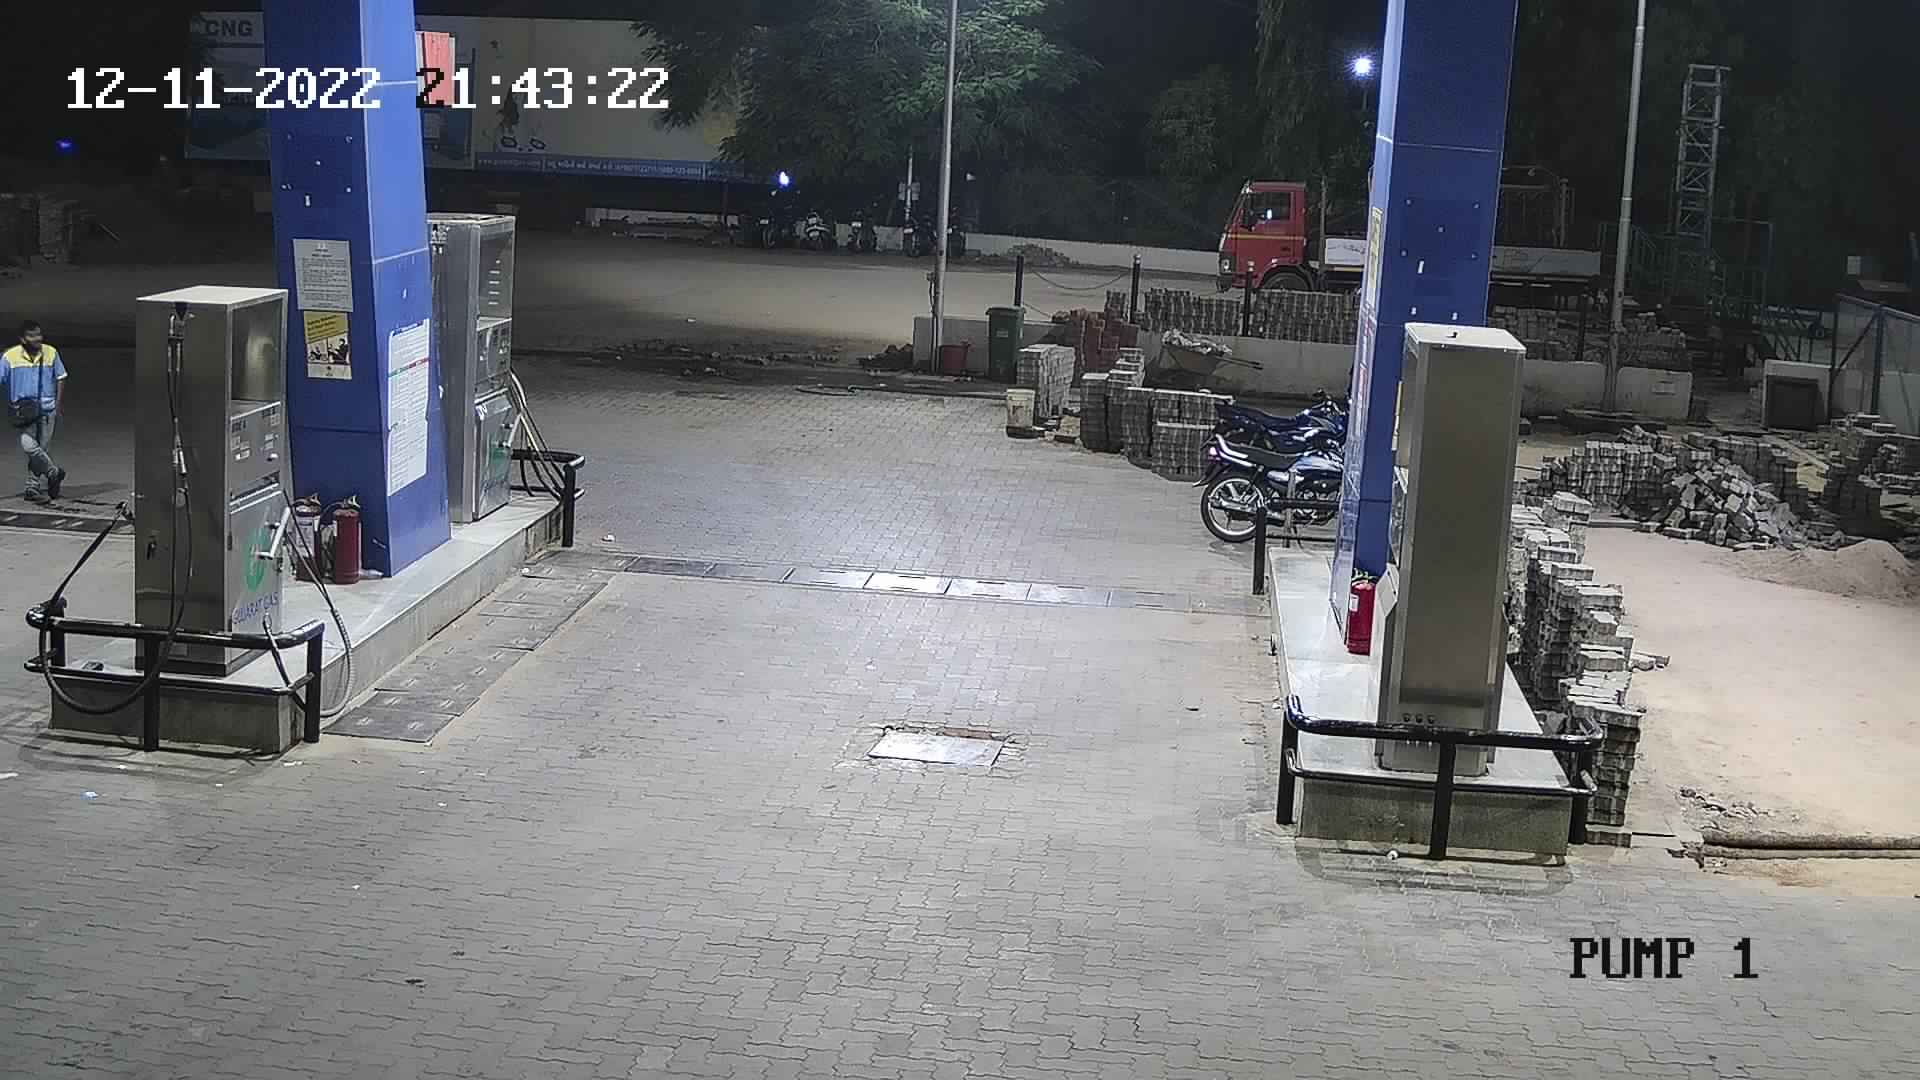Bike: (1195, 433, 1348, 556), (1200, 380, 1352, 460), (742, 186, 806, 258), (841, 191, 887, 258), (800, 191, 845, 257), (895, 200, 938, 260)
HMV: (1203, 135, 1375, 318)
Others: (1, 309, 74, 512)
